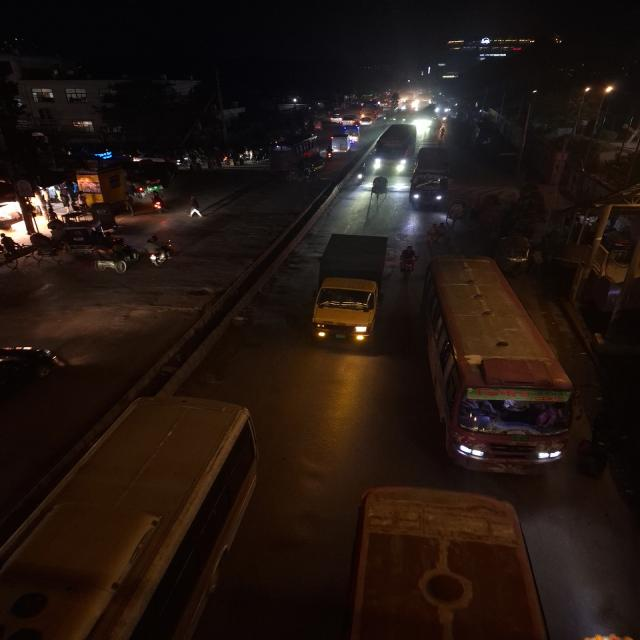bus: (423, 250, 580, 480), (410, 143, 452, 213), (372, 122, 418, 176), (269, 132, 321, 168)
car: (0, 342, 69, 461)
cng: (295, 156, 324, 183)
motorcycle: (143, 234, 177, 268), (396, 243, 419, 280), (147, 189, 169, 215), (354, 168, 366, 185)
pedestrian: (185, 192, 208, 221)
rickshaw: (496, 232, 538, 270), (90, 240, 133, 274), (24, 231, 61, 261), (442, 199, 470, 229), (372, 177, 390, 202)
truck: (306, 230, 391, 346), (328, 132, 354, 156), (341, 124, 361, 142)
